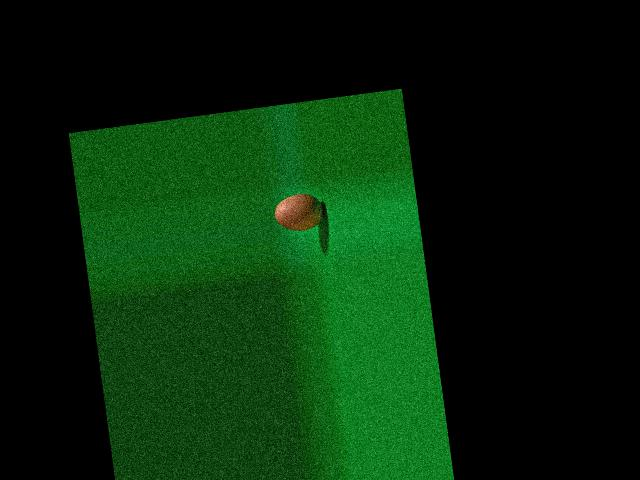egg: (273, 191, 326, 234)
